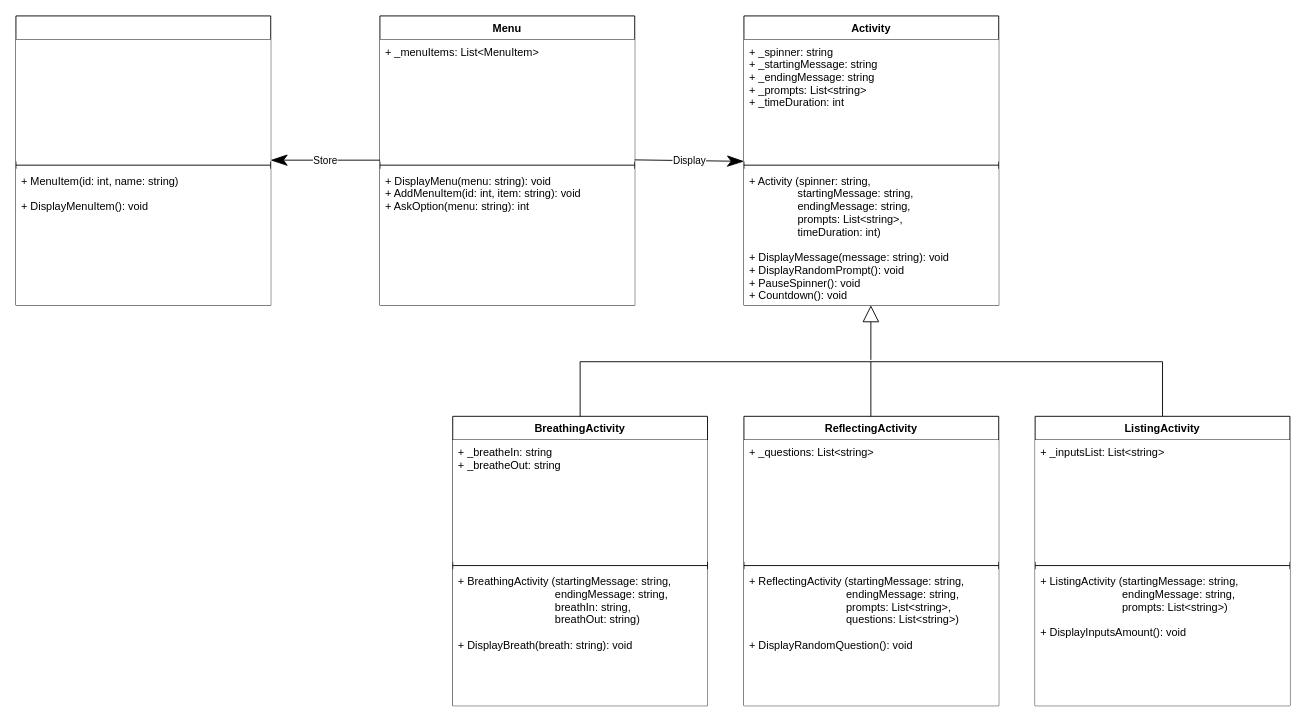
Image size: 1306x724. Some labels were removed from this diagram. The shapes that lost their labels are listed below. From the top down, each one's box as (x1, y1, x2, y2) in pixels, then its label:
(15, 39, 270, 161): + _id: int + _name: string
(15, 15, 271, 305): MenuItems
